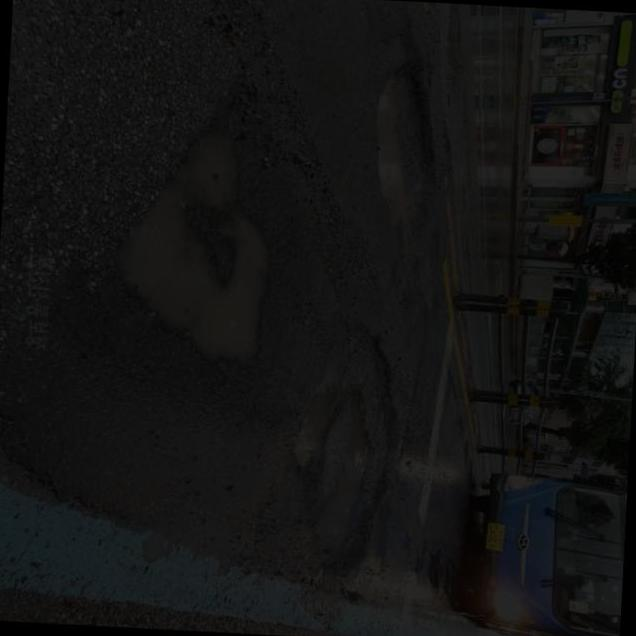pothole: (103, 78, 311, 402), (280, 314, 429, 611), (362, 56, 488, 250)
